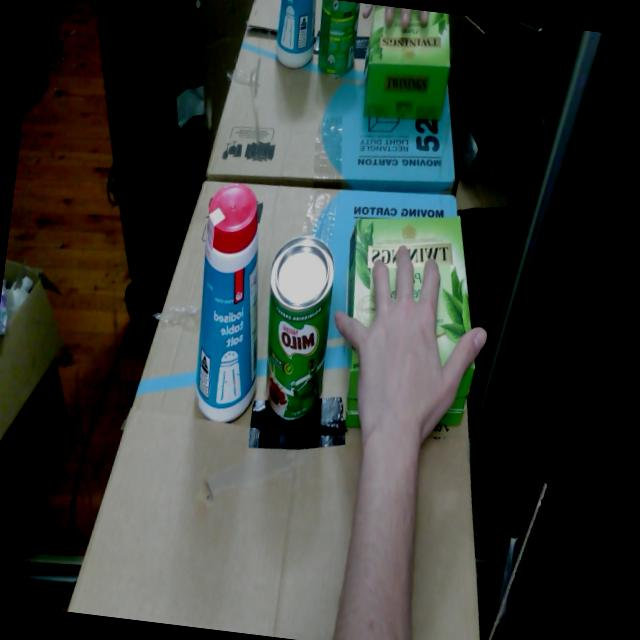nestle_milo_tin: (266, 235, 334, 420)
twinings_greentea_box: (346, 217, 471, 365), (437, 360, 475, 425), (345, 340, 360, 427)
woolworths_salt_bottle: (195, 184, 257, 422)
